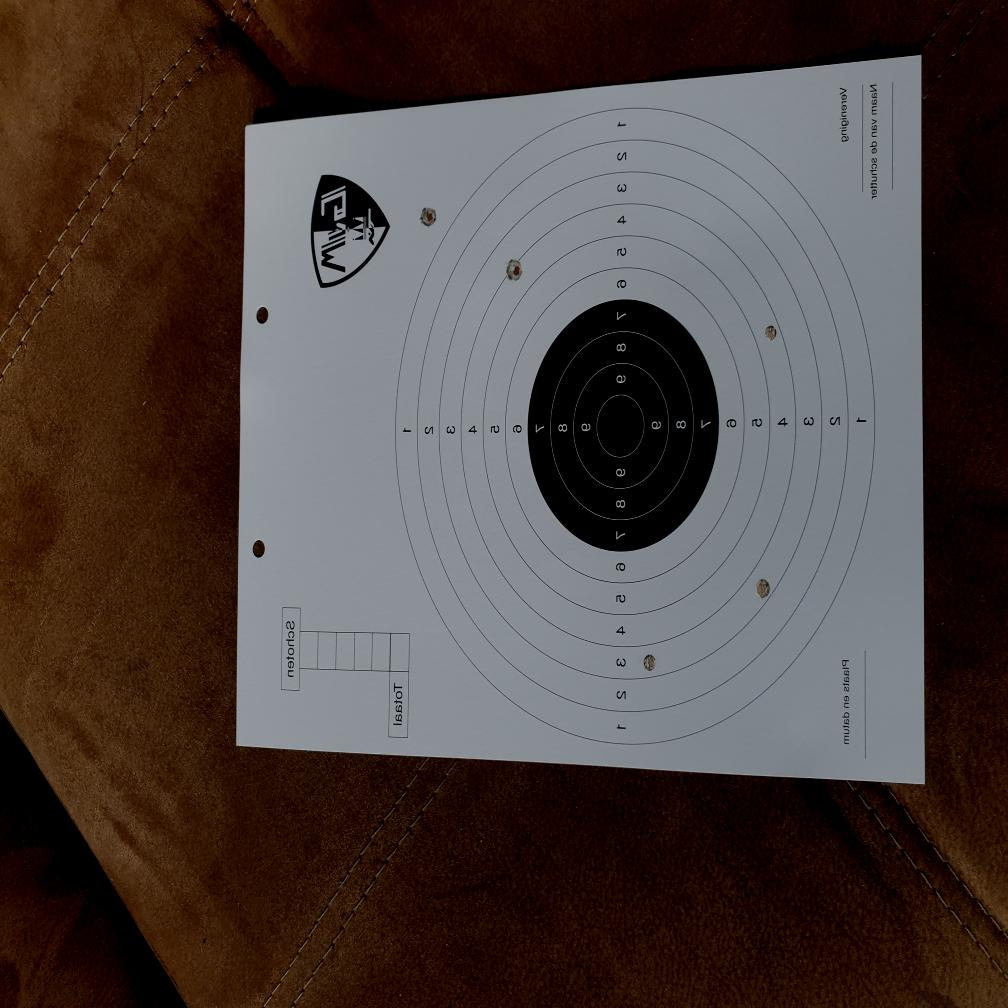0: (420, 206, 436, 228)
3: (755, 578, 773, 602), (641, 652, 658, 675)
4: (505, 258, 522, 282), (764, 325, 776, 343)
Target: (395, 108, 876, 751)
black_contour: (528, 298, 719, 552)
